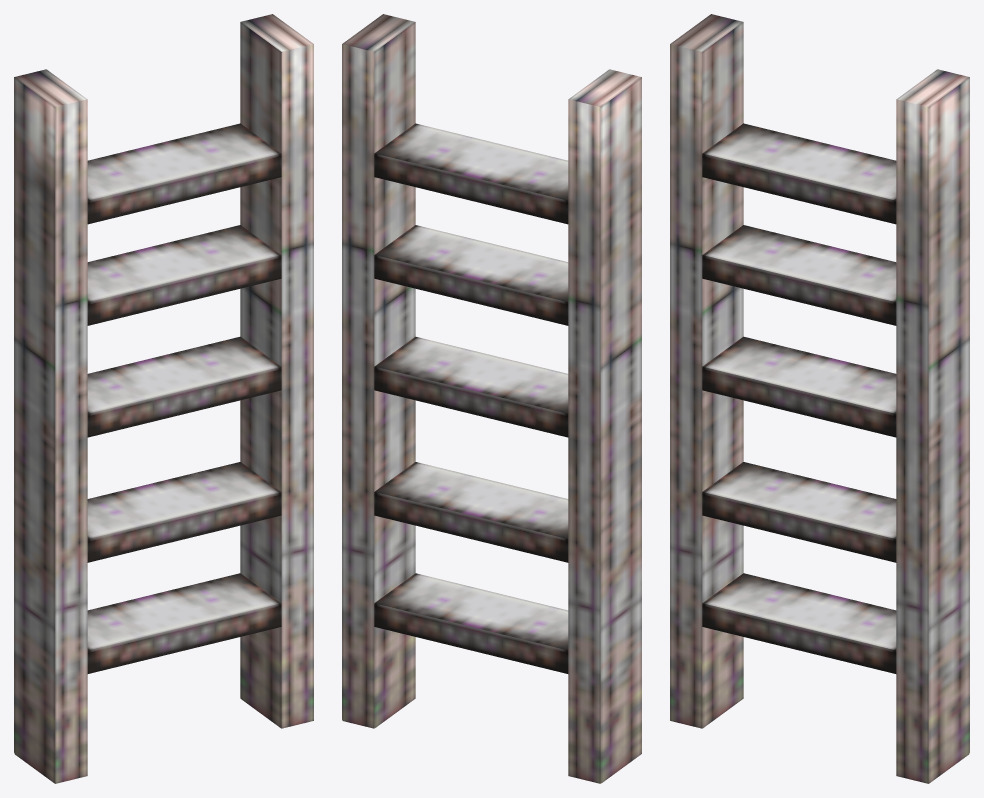
Rendered from Poly_SF_Outside_B_Metal_Stairs_01.obj.
The picture shows the model from 3 angles, left to right: view 1: azimuth 30°, elevation 25°; view 2: azimuth 150°, elevation 25°; view 3: azimuth 330°, elevation 25°; orthographic projection.
Visible parts, largest first — view 1: Cube.001; view 2: Cube.001; view 3: Cube.001.
Part boxes in pixels (x1,y1,x2,y2): Cube.001: (14,14,313,783); Cube.001: (342,14,641,783); Cube.001: (670,14,969,783).
Bounding box in the file's own units: 0.8 × 2 × 0.22.
Materials: 1 (1 with a texture image).
